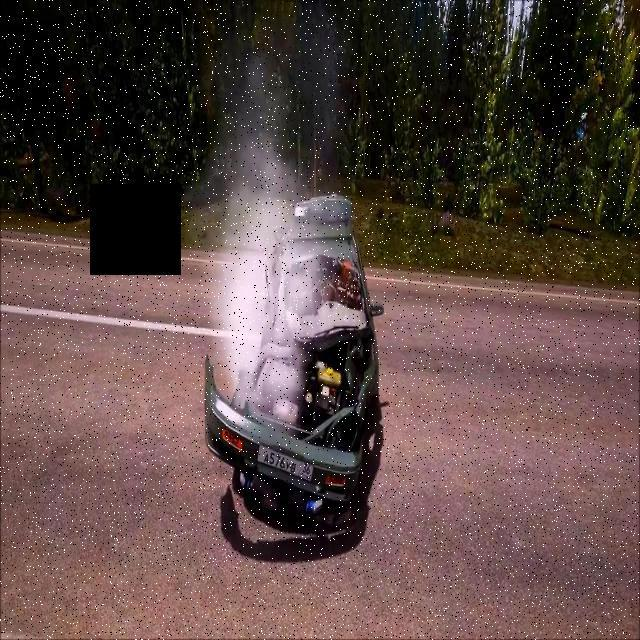severe: (200, 186, 386, 528)
